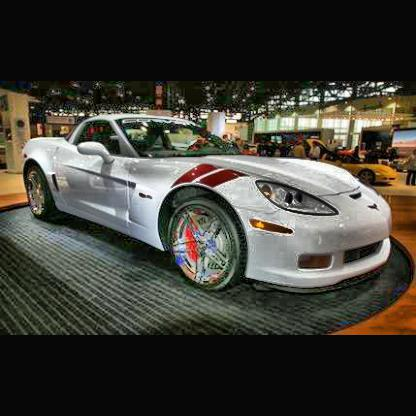Chevrolet Corvette Ron Fellows Edition Z06 2007: (20, 115, 394, 309)
